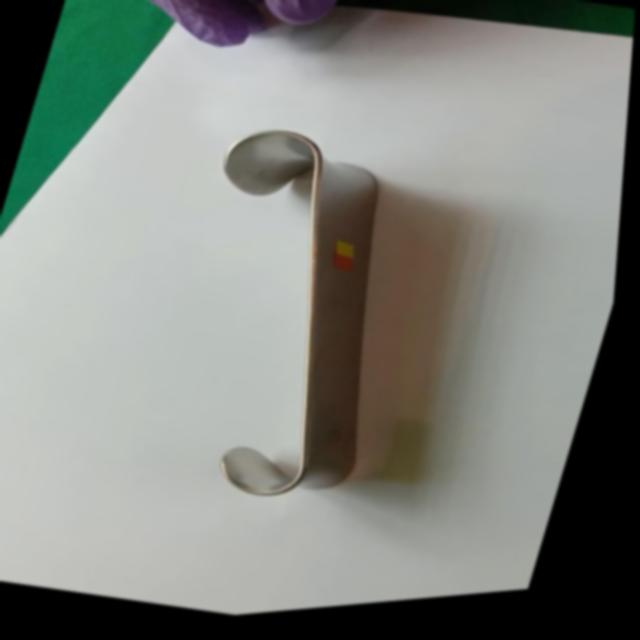CheekRetractor: (125, 106, 454, 530)
